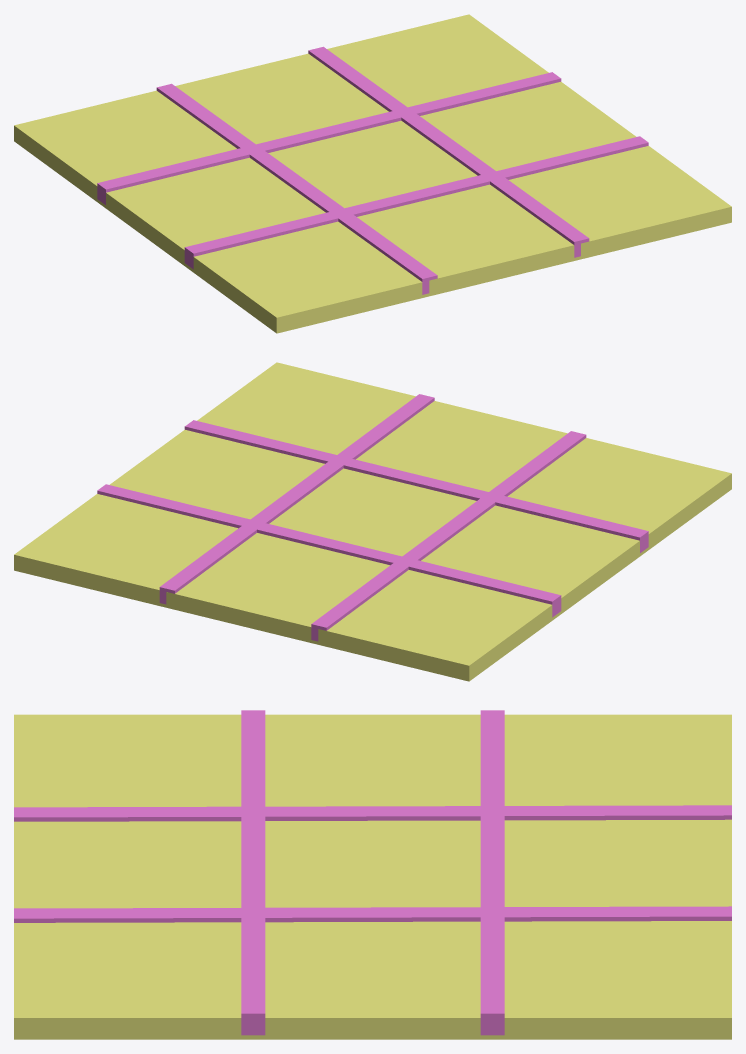
Rendered from board.glb.
3 renders of one model, top to bottom at view 1: azimuth 30°, elevation 25°; view 2: azimuth 150°, elevation 25°; view 3: azimuth 270°, elevation 25°, orthographic. The views are drawn at different scales.
Parts seen in each view (by area): view 1: plane, d1, d2, d1.001, d1.002; view 2: plane, d1, d2, d1.001, d1.002; view 3: plane, d1.002, d1.001, d1, d2.
Boxes of the visible parts, x1,y1,x2,y2 form: plane: (14, 14, 731, 333); d1: (184, 136, 648, 269); d2: (97, 72, 561, 204); d1.001: (156, 83, 437, 294); d1.002: (308, 46, 589, 257); plane: (14, 362, 731, 681); d1: (184, 420, 648, 552); d2: (97, 484, 561, 617); d1.001: (311, 431, 586, 641); d1.002: (159, 394, 434, 604); plane: (14, 714, 731, 1039); d1.002: (14, 906, 731, 922); d1.001: (14, 805, 731, 821); d1: (241, 710, 265, 1035); d2: (480, 710, 504, 1035).
Size of the model in its own units: 3 by 0.12 by 3.
